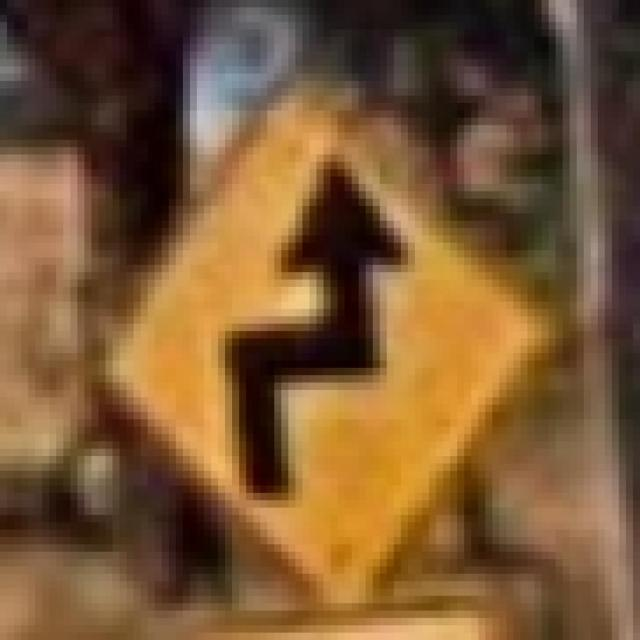Tikungan Ganda Pertama Ke Kanan: (99, 44, 542, 611)
